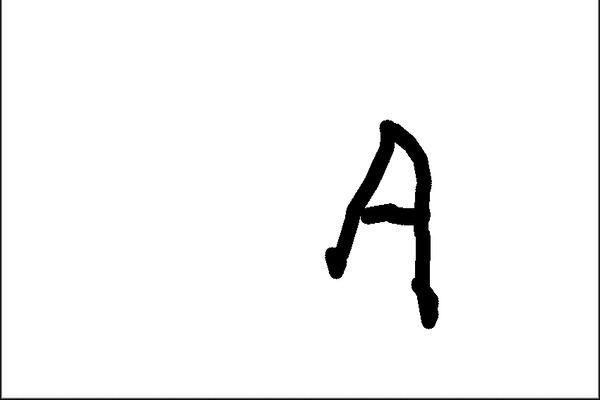A: (316, 110, 442, 298)
